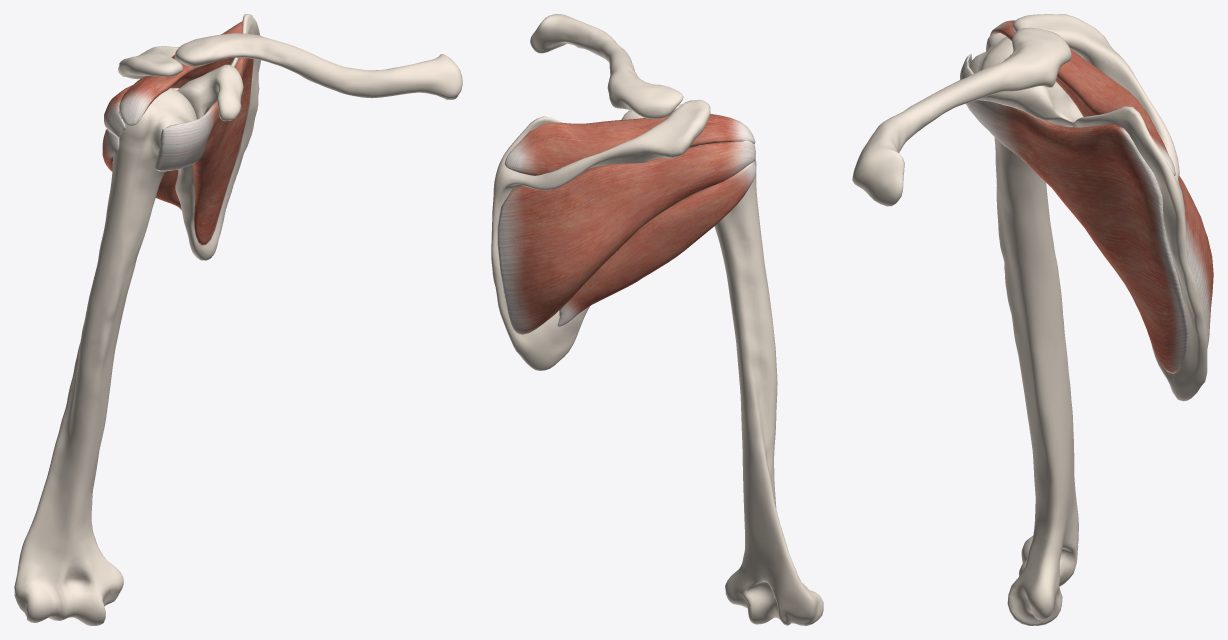
The model's file is rotator-cuff.glb.
3 renders of one model, left to right at view 1: azimuth 30°, elevation 25°; view 2: azimuth 150°, elevation 25°; view 3: azimuth 270°, elevation 25°, orthographic. The views are drawn at different scales.
Visible parts, largest first — view 1: Humerus.r, Clavicle.r, Scapula.r., Subscapularis muscle.r, Infraspinatus muscle.r; view 2: Infraspinatus muscle.r, Humerus.r, Scapula.r., Clavicle.r; view 3: Humerus.r, Subscapularis muscle.r, Scapula.r., Clavicle.r, Infraspinatus muscle.r.
Boxes of the visible parts, <box> form: Humerus.r: <box>14,88,196,625</box>; Clavicle.r: <box>175,33,462,99</box>; Scapula.r.: <box>118,14,260,260</box>; Subscapularis muscle.r: <box>155,33,253,245</box>; Infraspinatus muscle.r: <box>102,21,242,210</box>; Infraspinatus muscle.r: <box>497,113,756,334</box>; Humerus.r: <box>699,140,823,625</box>; Scapula.r.: <box>491,99,710,370</box>; Clavicle.r: <box>530,14,683,118</box>; Humerus.r: <box>969,33,1078,625</box>; Subscapularis muscle.r: <box>960,54,1188,374</box>; Scapula.r.: <box>976,14,1207,401</box>; Clavicle.r: <box>852,27,1071,206</box>; Infraspinatus muscle.r: <box>990,20,1213,348</box>.
Bounding box in the file's own units: 0.2377 × 0.3353 × 0.1672.
5 materials, 2 textured.
